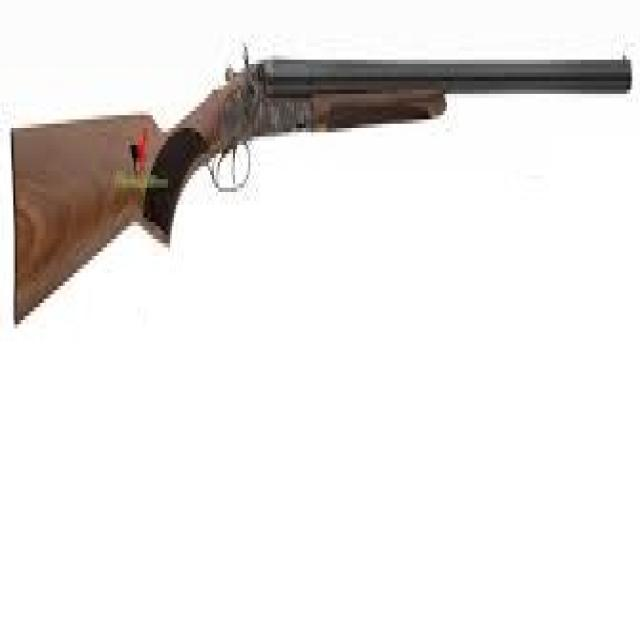rifle: (8, 33, 637, 339)
